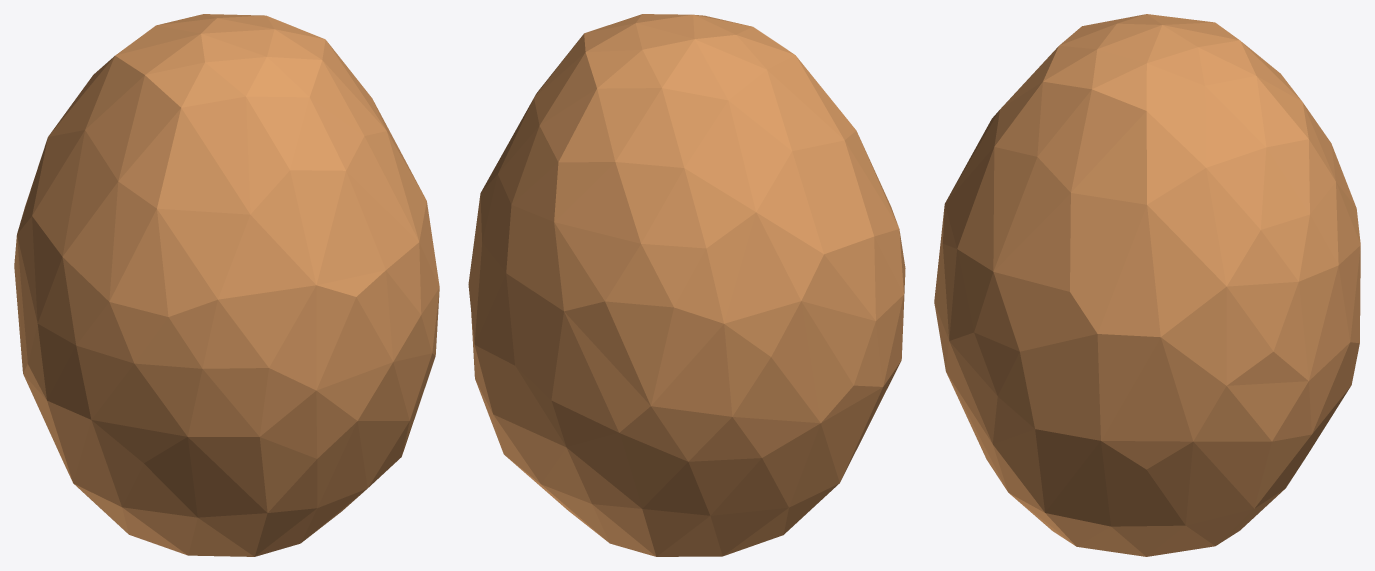
The model's file is Uovo.fbx.
3 renders of one model, left to right at view 1: azimuth 30°, elevation 25°; view 2: azimuth 150°, elevation 25°; view 3: azimuth 270°, elevation 25°, orthographic.
Visible parts, largest first — view 1: Icosphere.002; view 2: Icosphere.002; view 3: Icosphere.002.
Part boxes in pixels (x1,y1,x2,y2): Icosphere.002: (14, 14, 439, 556); Icosphere.002: (468, 14, 905, 556); Icosphere.002: (934, 14, 1360, 556).
Size of the model in its own units: 113 by 147 by 112.
